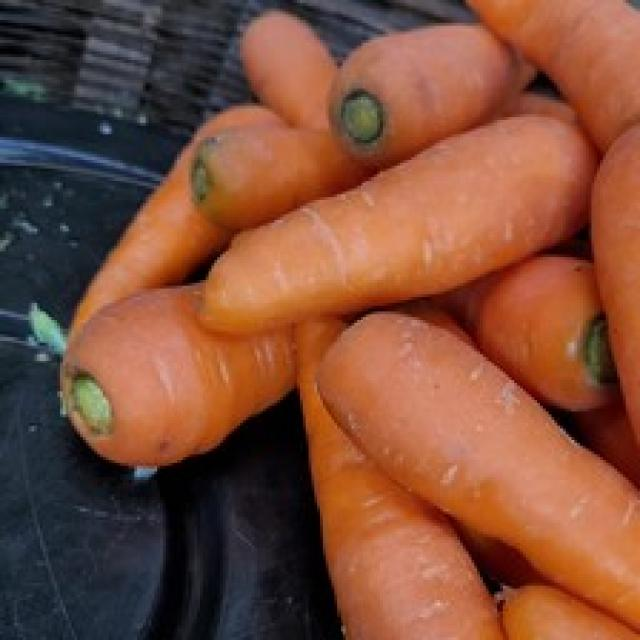Fresh_Carrot: (79, 0, 640, 639)
